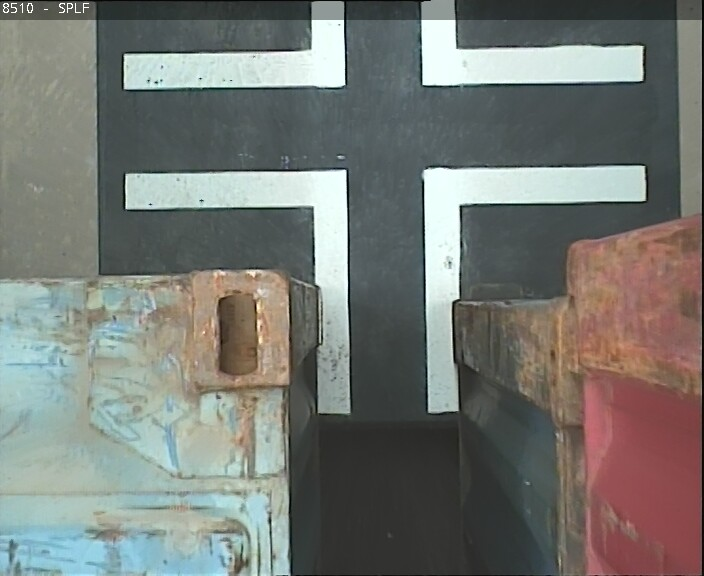groundmarker_1: (123, 172, 644, 407)
